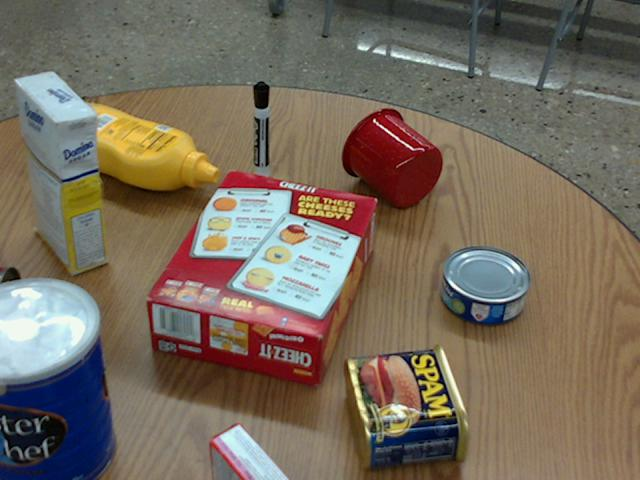cracker_box: (146, 172, 376, 384)
gelatin_box: (208, 421, 288, 479)
large_marker: (252, 81, 268, 178)
master_chef_can: (0, 276, 113, 479)
mug: (341, 108, 443, 207)
mustard_bottle: (50, 104, 218, 190)
potted_meat_can: (345, 344, 468, 469)
sugar_box: (16, 71, 105, 274)
tomato_soup_can: (0, 265, 21, 340)
tuna_fish_can: (441, 246, 530, 324)
